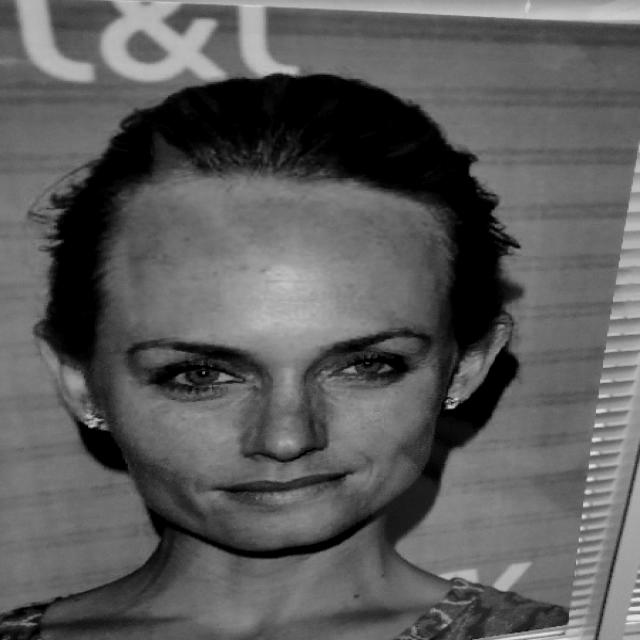fake: (3, 0, 620, 640)
